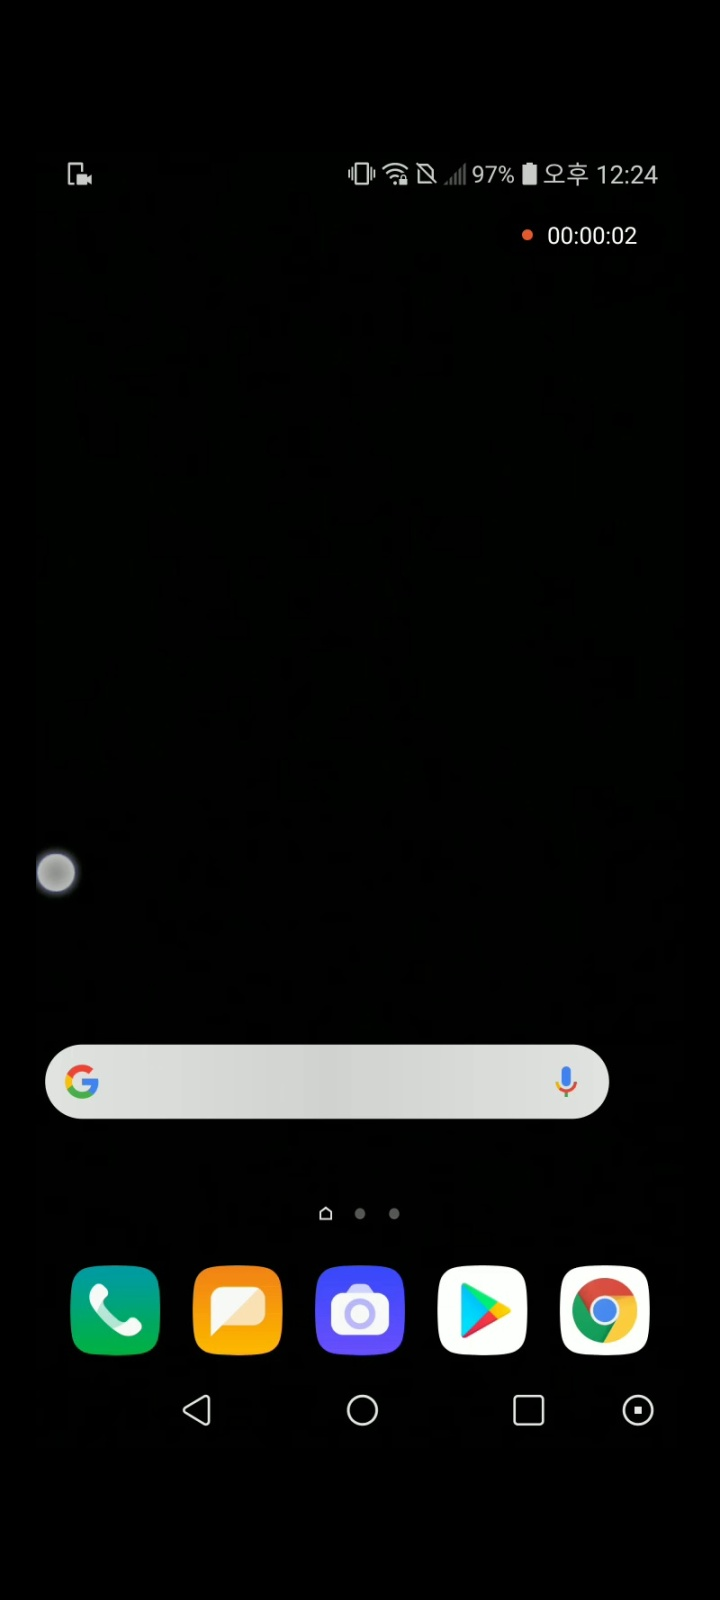Cursor: (37, 850, 81, 895)
